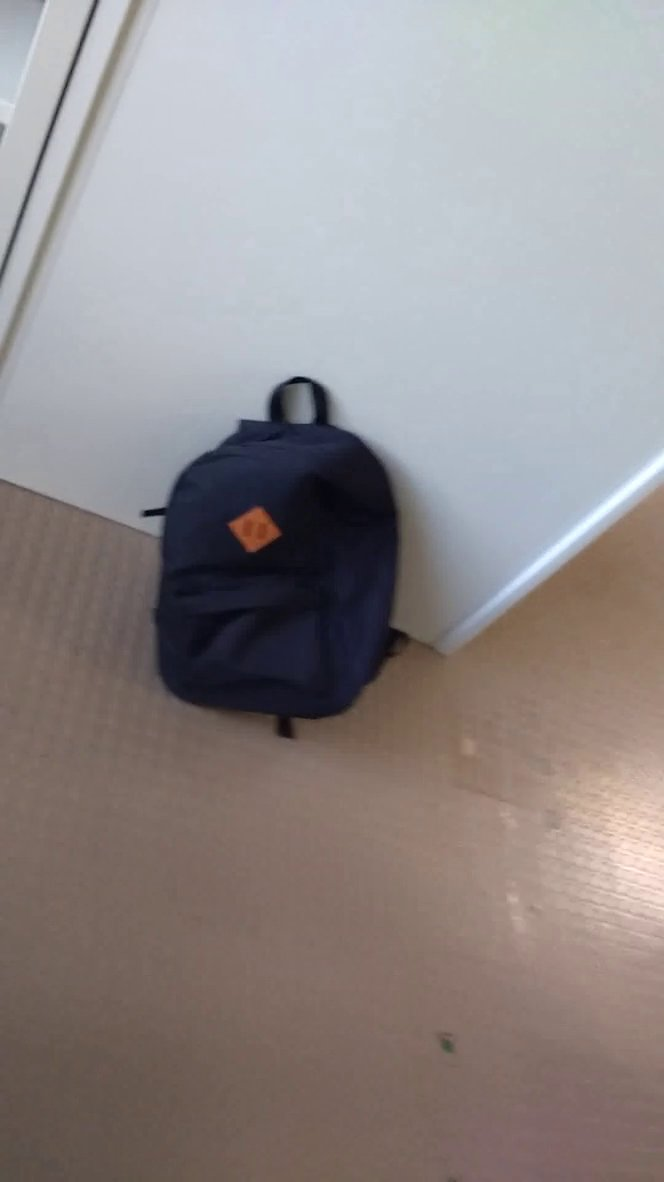bag: (107, 358, 424, 756)
